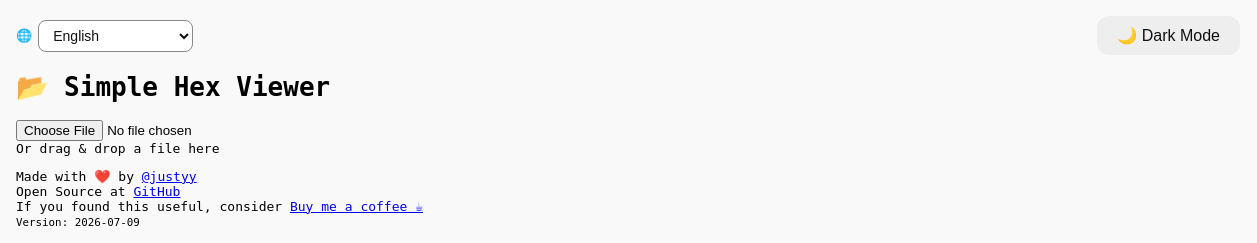
Test: language selection › switches the UI language and persists it
Select "Español" in the dropdown at (116, 36), box [38, 20, 193, 52]
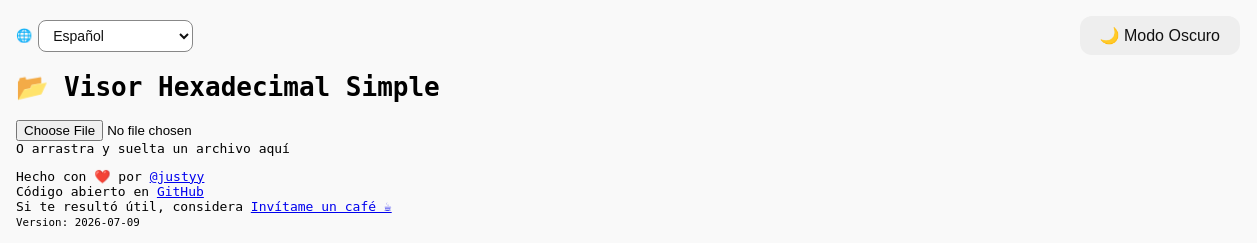
Now the heading "📂 Visor Hexadecimal Simple" is shown, box [16, 72, 440, 102]
